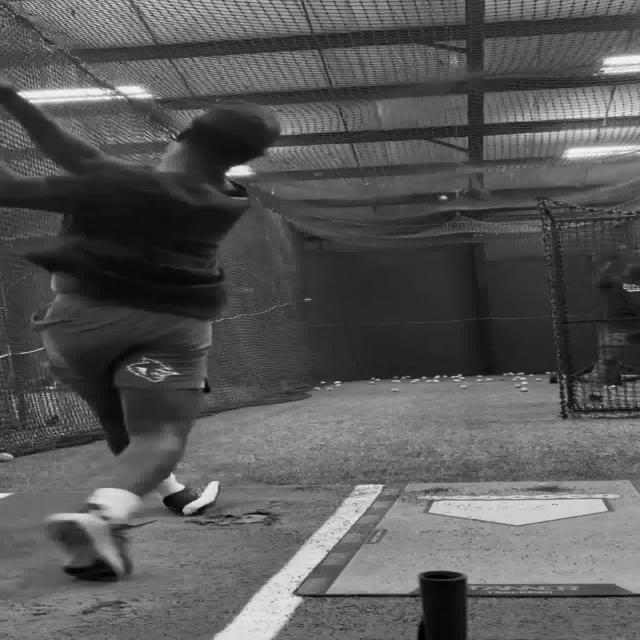shoe: (49, 505, 131, 581), (162, 481, 220, 516)
